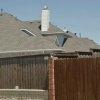Chimney: (35, 2, 56, 35)
